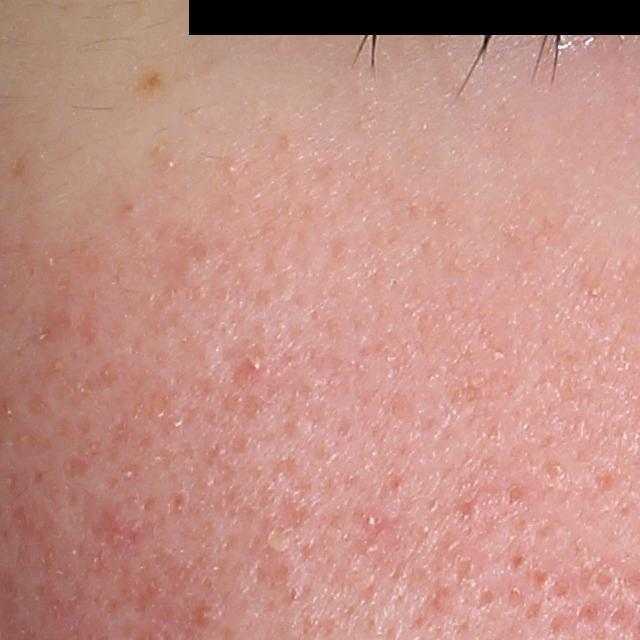comedo: (161, 157, 178, 173), (226, 163, 238, 175)
melasma: (138, 68, 165, 95)
